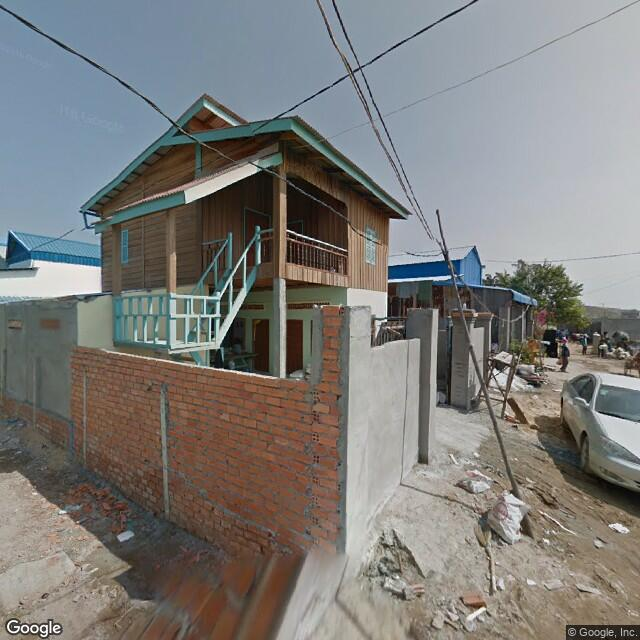litter: (376, 565, 421, 598), (457, 464, 493, 497), (425, 605, 486, 623), (609, 514, 633, 537), (113, 524, 135, 544), (594, 532, 612, 550)
